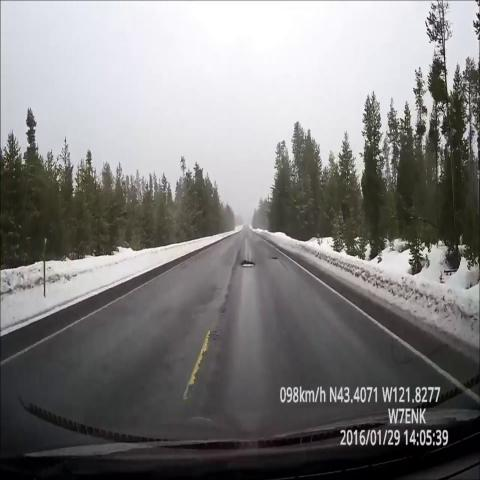pothole: (235, 250, 261, 272), (265, 247, 287, 269)
